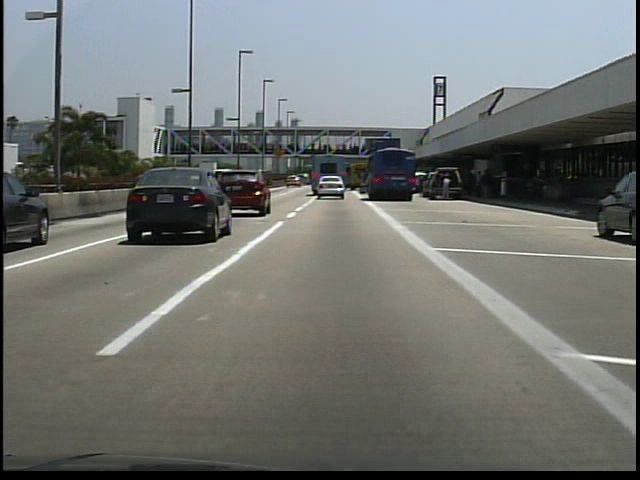person: (478, 166, 494, 204), (441, 175, 454, 204)
